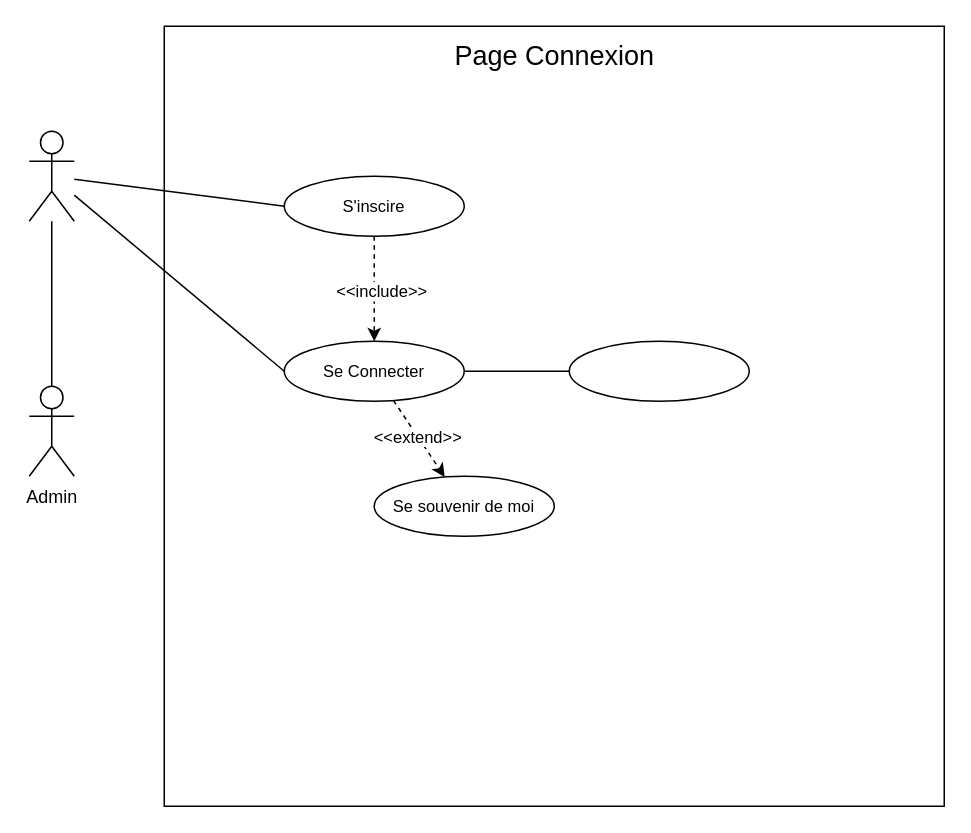
The diagram is 971 pixels wide and 833 high, and some of its shapes have lost their labels. Here are the shapes that lost their labels. From the top down, the centre of each, then its label:
point 51,175: User
point 658,370: Page Accueil
